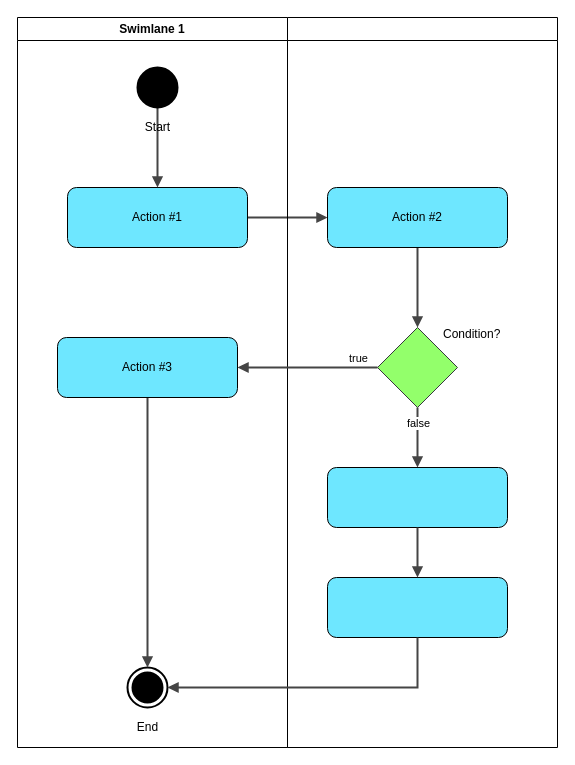
Image size: 575x765. Some labels were removed from this diagram. Here are the shapes that lost their labels. From the top down, the box of each, then its label:
(286, 16, 558, 748): Swimlane 2
(326, 466, 508, 528): Action #4
(326, 576, 508, 638): Action #5
